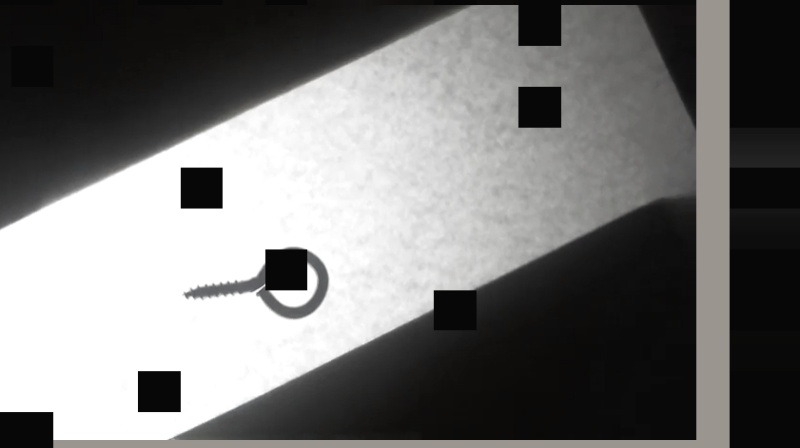O001: (176, 245, 334, 322)
